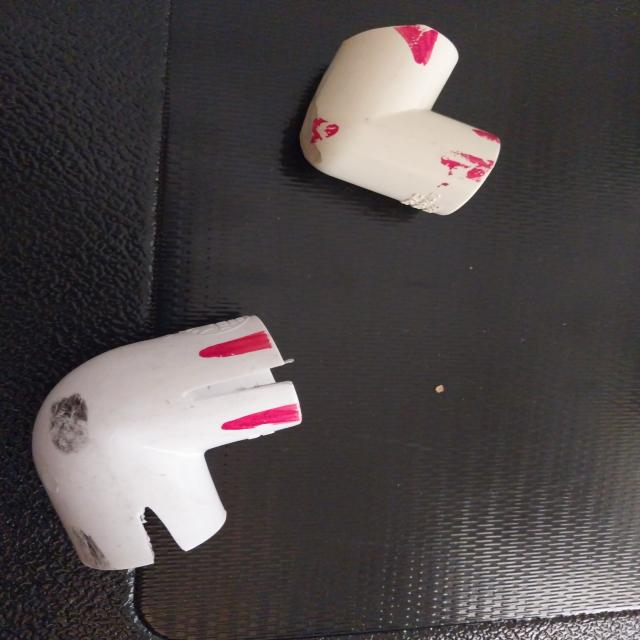Defective: (132, 501, 191, 568), (208, 406, 320, 439), (40, 400, 97, 454), (199, 334, 294, 366), (379, 26, 448, 69), (412, 156, 503, 183), (312, 118, 358, 144)
L Joint: (30, 315, 303, 574), (297, 26, 502, 218)
